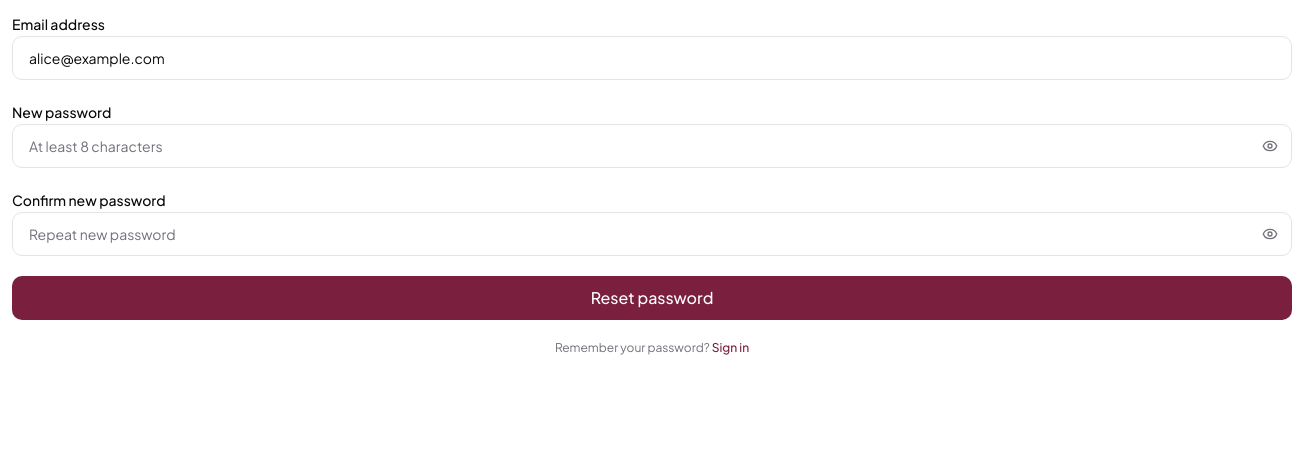
Test: ResetPasswordForm (F9.2) › handles server error on expired or invalid token
The image size is (1304, 470).
In the password field labelled "New password": (652, 146) [12, 124, 1292, 168], type "newSecurePass123!"
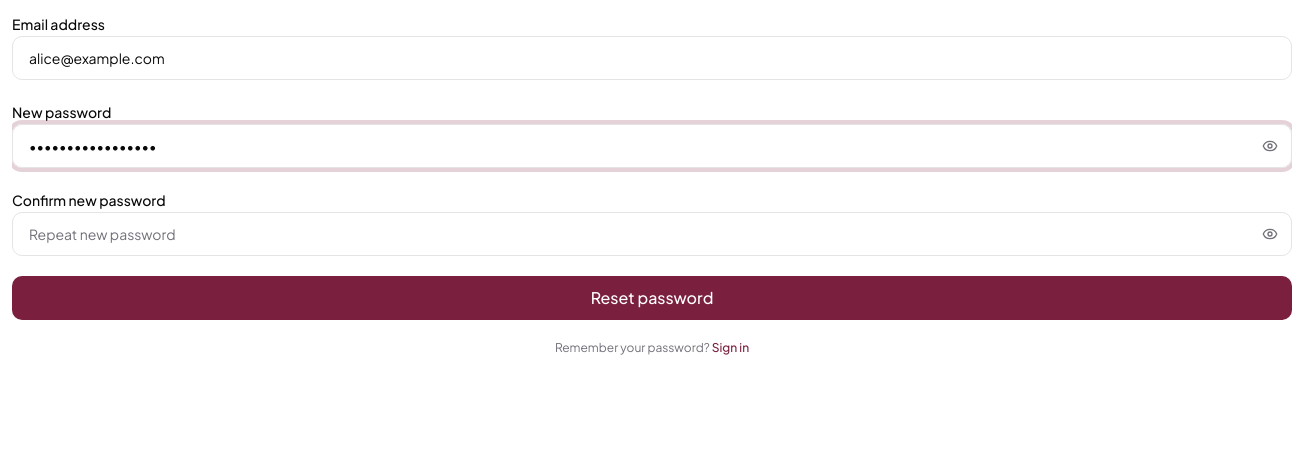
In the password field labelled "Confirm new password": (652, 234) [12, 212, 1292, 256], type "newSecurePass123!"
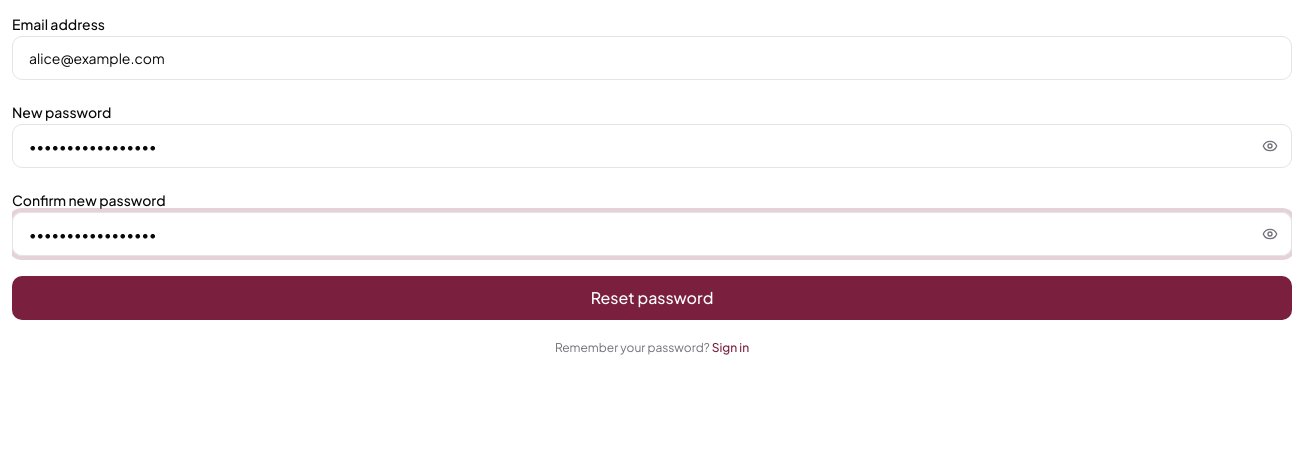
Click the button "Reset password": (652, 298) [12, 276, 1292, 320]
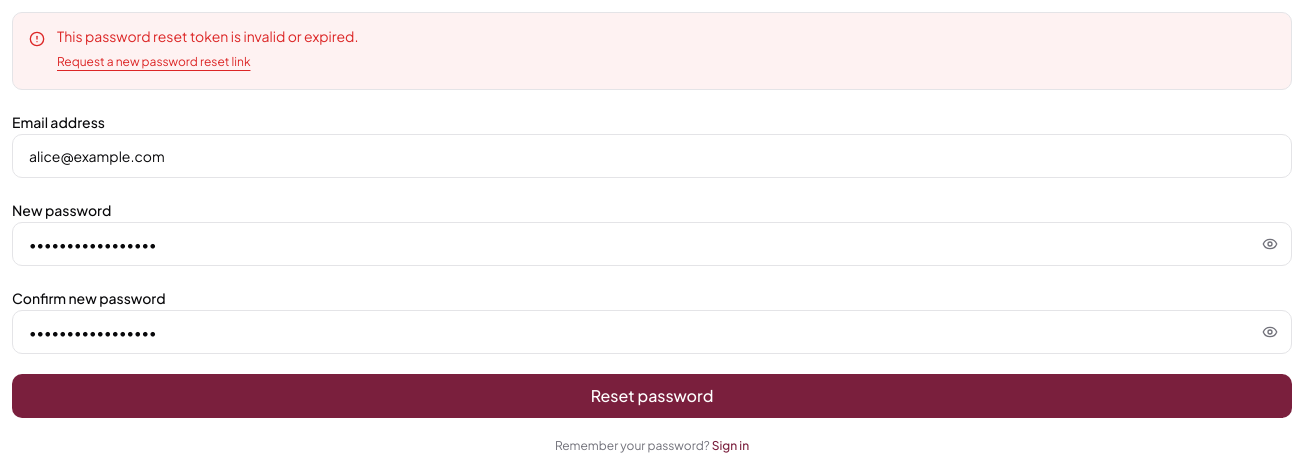
Expected: the message is shown, [12, 12, 1292, 90]
Expected: the message shows "token", [57, 27, 358, 45]
